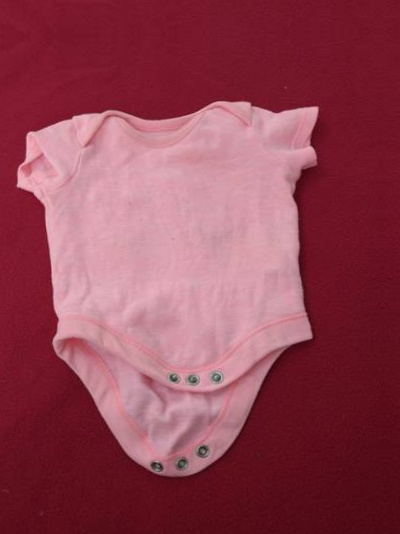Body: (7, 89, 342, 499)
